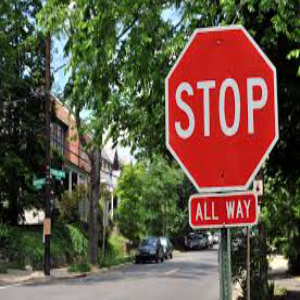STOP_SIGN: (163, 23, 281, 192)
